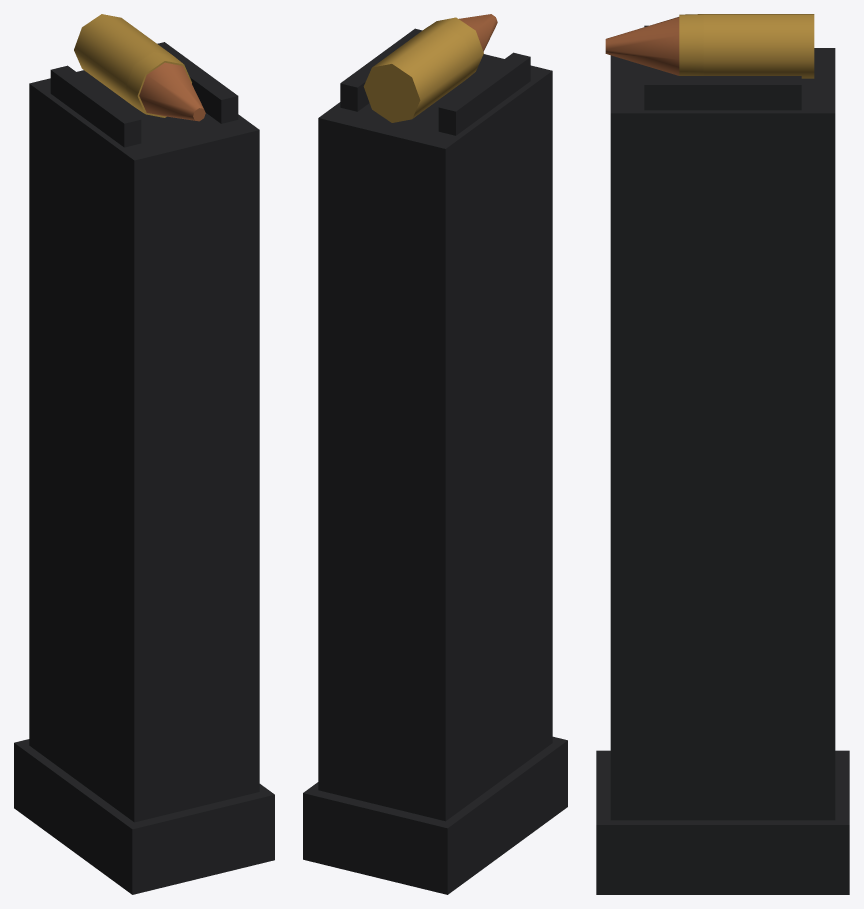
The model's file is mag-pistol.glb.
3 renders of one model, left to right at view 1: azimuth 30°, elevation 25°; view 2: azimuth 150°, elevation 25°; view 3: azimuth 270°, elevation 25°, orthographic. The views are drawn at different scales.
Visible parts, largest first — view 1: mag-pistol; view 2: mag-pistol; view 3: mag-pistol.
Boxes of the visible parts, x1,y1,x2,y2 form: mag-pistol: [14, 14, 274, 894]; mag-pistol: [303, 14, 567, 894]; mag-pistol: [596, 14, 849, 894].
Bounding box in the file's own units: 0.025 × 0.1323 × 0.036.
1 material, 1 textured.
